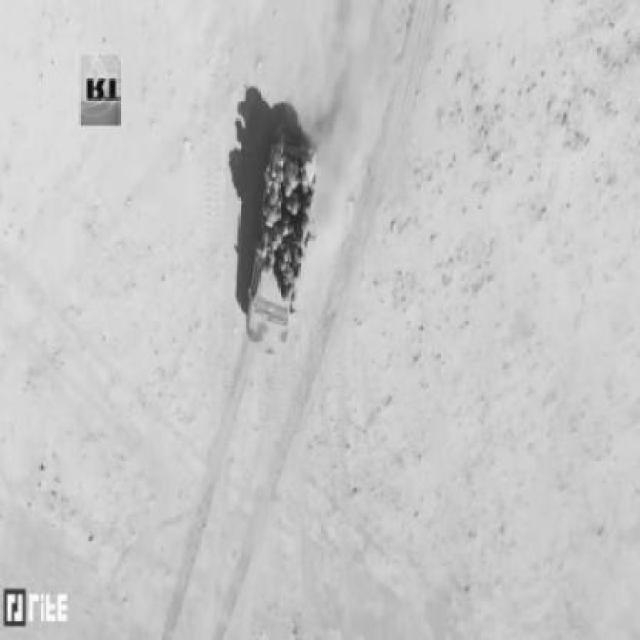Vehicle: (246, 137, 320, 360)
